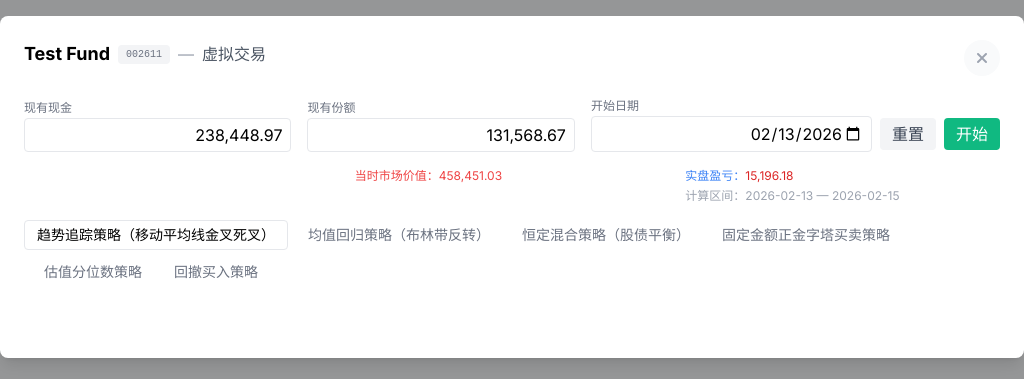
Test: VirtualTradeModal initialization from localStorage › reset restores default start date, default shares, and default cash
Expected: the date field labelled "开始日期" holds "2026-02-13", [591,116,872,152]
Expected: the field labelled "现有份额" holds "131,568.67", [308,118,575,152]
Replace the text in the field labelled "现有现金" with "12,345.00" at (158, 135), box [24,118,292,152]
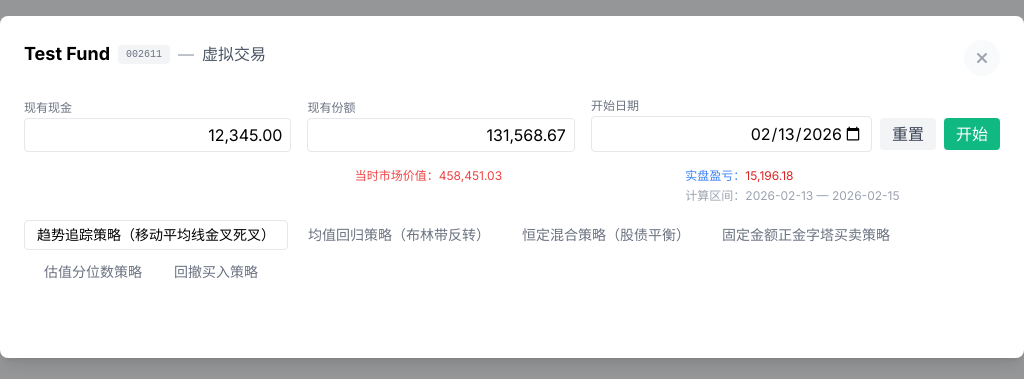
Replace the text in the field labelled "现有份额" with "999.99" at (441, 135), box [308,118,575,152]
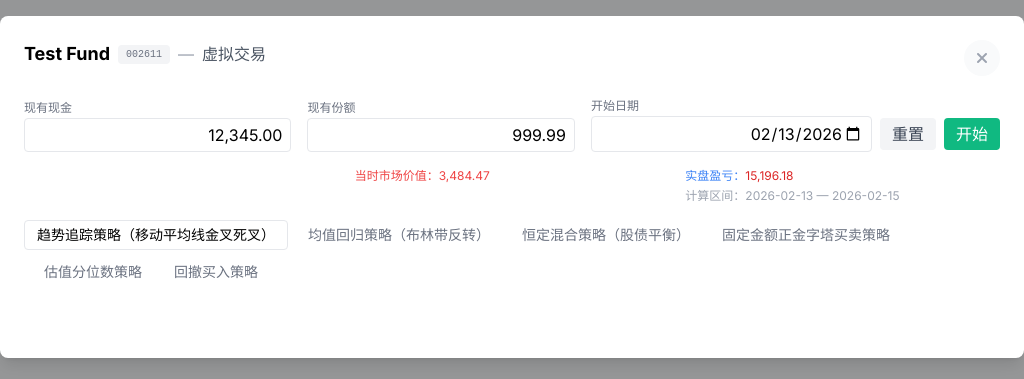
Type "2026-02-15" into the date field labelled "开始日期" at (731, 134), box [591,116,872,152]
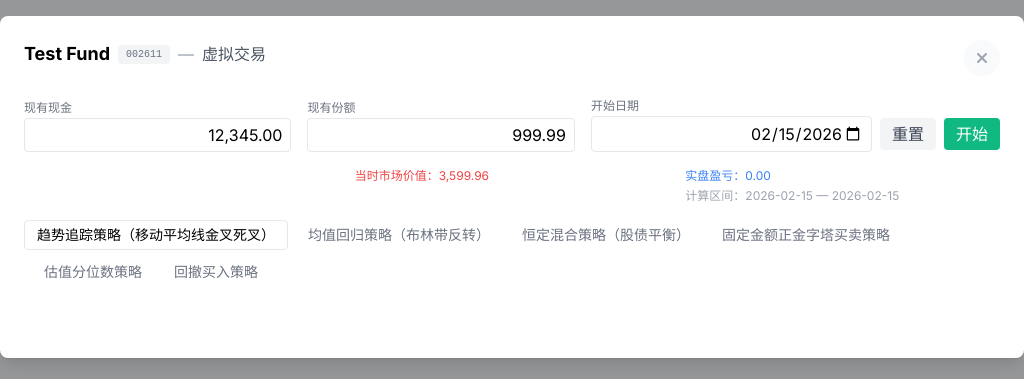
Click the button with aria-label "重置虚拟交易默认值" at (908, 134), box [880,118,936,150]
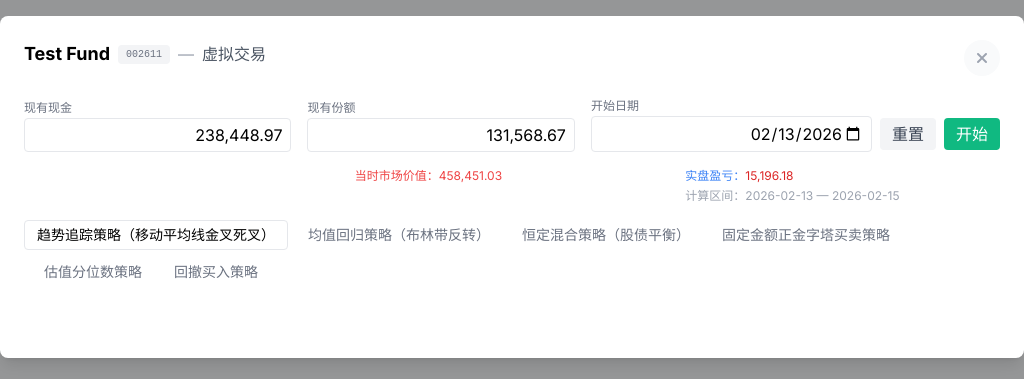
Result: the date field labelled "开始日期" holds "2026-02-13" at [591,116,872,152]
Result: the field labelled "现有现金" holds "238,448.97" at [24,118,292,152]
Result: the field labelled "现有份额" holds "131,568.67" at [308,118,575,152]
